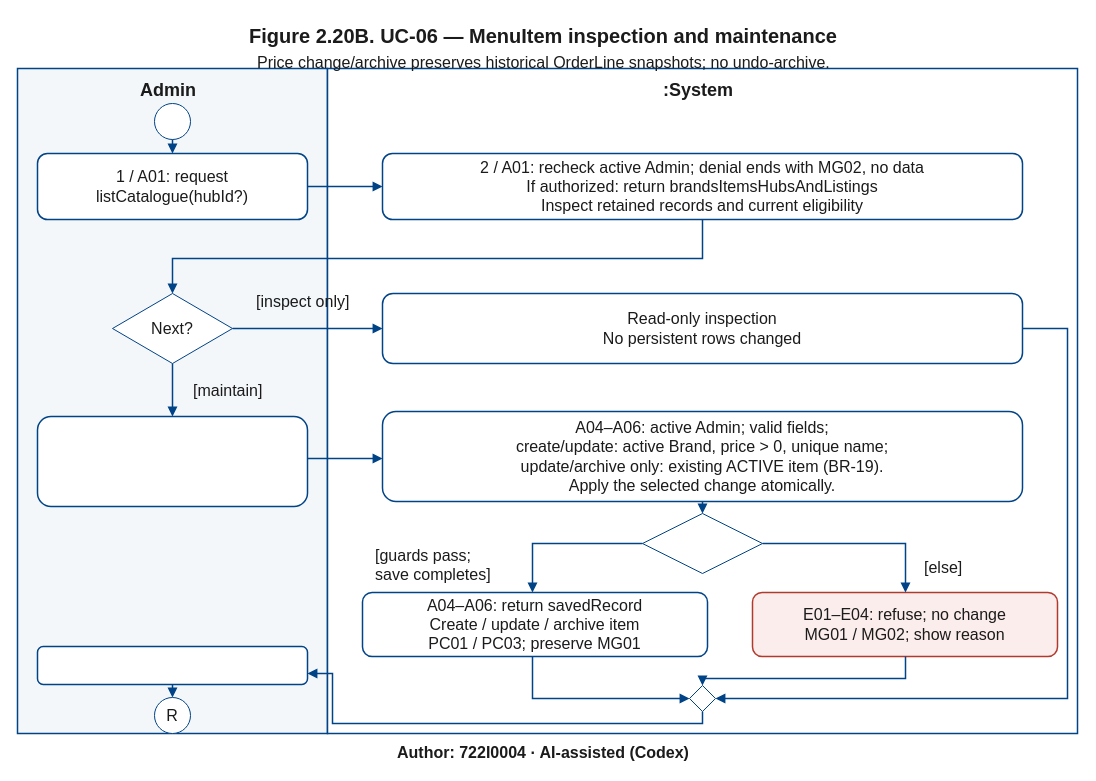
This 1096x781 diagram has some shape labels left out. The box of each missing label's shape, as (x1, y1, x2, y2) in pixels:
A04 / A05 / A06: submit createMenuItem / updateMenuItem / archiveMenuItem: (36, 415, 308, 507)
MI: (154, 102, 190, 140)
Observe result; R to Part A: (36, 645, 308, 685)
Saved?: (642, 512, 762, 574)
